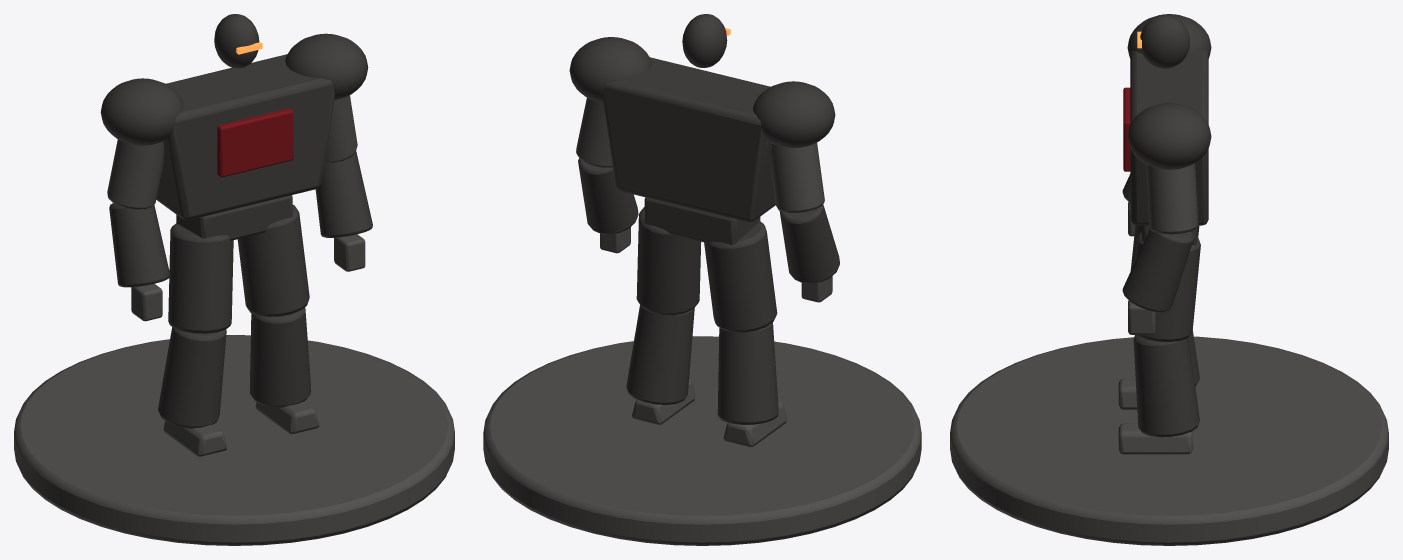
The model's file is covenant_frame_bulwark.glb.
3 views of the same model, side by side, from view 1: azimuth 30°, elevation 25°; view 2: azimuth 150°, elevation 25°; view 3: azimuth 270°, elevation 25° (orthographic).
Parts seen in each view (by area): view 1: standin_base.002, t.002, standin_thigh_R.002, standin_thigh_L.002, standin_shin_R.002, standin_shin_L.002, standin_pauldron_R.002, tp.002, standin_forearm_R.002, standin_forearm_L.002, standin_pauldron_L.002, standin_arm_R.002 (+7 smaller); view 2: standin_base.002, t.002, standin_thigh_R.002, standin_shin_R.002, standin_shin_L.002, standin_thigh_L.002, standin_pauldron_R.002, standin_forearm_R.002, standin_pauldron_L.002, standin_arm_R.002, standin_pelvis.002, standin_forearm_L.002 (+6 smaller); view 3: standin_base.002, t.002, standin_shin_L.002, standin_pauldron_L.002, standin_forearm_L.002, standin_arm_L.002, standin_thigh_L.002, h.002, standin_foot_L.002, standin_pauldron_R.002, standin_hand_L.002, tp.002 (+1 smaller).
Boxes of the visible parts, x1,y1,x2,y2 form: standin_base.002: (14,335,454,545); t.002: (156,54,335,219); standin_thigh_R.002: (168,223,233,333); standin_thigh_L.002: (237,205,309,316); standin_shin_R.002: (158,327,226,428); standin_shin_L.002: (249,307,311,407); standin_pauldron_R.002: (100,78,183,145); tp.002: (217,108,293,177); standin_forearm_R.002: (109,203,169,287); standin_forearm_L.002: (315,151,372,237); standin_pauldron_L.002: (285,33,368,99); standin_arm_R.002: (107,139,163,209); standin_base.002: (483,336,921,545); t.002: (602,57,775,221); standin_thigh_R.002: (704,221,777,332); standin_shin_R.002: (717,322,778,424); standin_shin_L.002: (626,305,694,404); standin_thigh_L.002: (636,207,701,315); standin_pauldron_R.002: (753,81,835,147); standin_forearm_R.002: (779,204,839,283); standin_pauldron_L.002: (569,37,651,102); standin_arm_R.002: (770,143,824,213); standin_pelvis.002: (644,197,760,244); standin_forearm_L.002: (578,158,638,234); standin_base.002: (950,336,1388,545); t.002: (1130,50,1208,225); standin_shin_L.002: (1133,335,1199,437); standin_pauldron_L.002: (1127,103,1211,169); standin_forearm_L.002: (1122,229,1193,312); standin_arm_L.002: (1146,163,1198,234); standin_thigh_L.002: (1135,232,1200,341); h.002: (1140,15,1189,68); standin_foot_L.002: (1118,423,1192,454); standin_pauldron_R.002: (1127,14,1211,58); standin_hand_L.002: (1128,300,1155,334); tp.002: (1123,87,1130,171).
Size of the model in its own units: 40 by 44.18 by 40.
